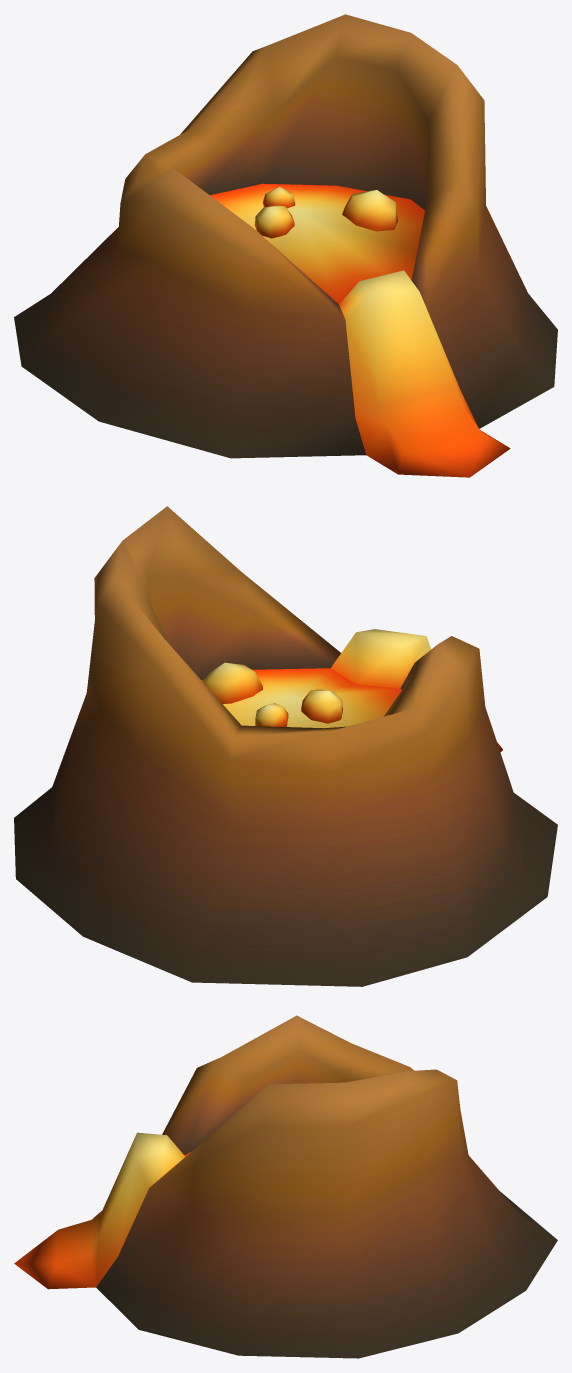
Rendered from m_Crater01_B.fbx.
The picture shows the model from 3 angles, top to bottom: view 1: azimuth 30°, elevation 25°; view 2: azimuth 150°, elevation 25°; view 3: azimuth 270°, elevation 25°; orthographic projection. The views are drawn at different scales.
Parts seen in each view (by area): view 1: m_Crater01_B; view 2: m_Crater01_B; view 3: m_Crater01_B.
Part boxes in pixels (bbox=[...]): m_Crater01_B: bbox=[14, 14, 557, 477]; m_Crater01_B: bbox=[14, 506, 557, 986]; m_Crater01_B: bbox=[14, 1015, 557, 1358].
Bounding box in the file's own units: 596 × 348 × 725.
